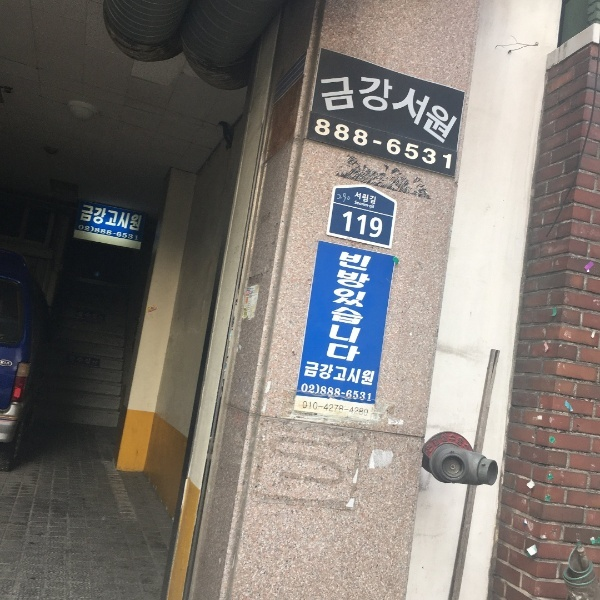text: (353, 249, 368, 364), (339, 249, 352, 364), (417, 83, 432, 146), (433, 83, 448, 146), (321, 117, 336, 171), (337, 117, 352, 171), (353, 117, 368, 171), (369, 117, 384, 171), (385, 117, 400, 171), (401, 117, 416, 171), (417, 117, 432, 171), (433, 117, 448, 171), (449, 83, 459, 146), (369, 249, 374, 364), (321, 76, 336, 113), (337, 76, 352, 113), (353, 76, 368, 113), (369, 76, 384, 113), (353, 208, 368, 241), (369, 208, 383, 241), (97, 203, 112, 233), (113, 203, 128, 233), (129, 203, 143, 233), (83, 203, 96, 233), (321, 361, 336, 387), (337, 361, 352, 387), (353, 361, 368, 387), (307, 361, 320, 387), (385, 76, 394, 113), (342, 208, 352, 241), (411, 83, 416, 146), (305, 383, 320, 403), (321, 383, 336, 403), (337, 383, 352, 403), (353, 383, 368, 403), (81, 224, 96, 242), (97, 224, 112, 242), (113, 224, 128, 242), (353, 401, 369, 417), (305, 401, 320, 417), (321, 401, 336, 417), (337, 401, 352, 417), (354, 191, 368, 206), (369, 361, 376, 387), (129, 224, 139, 242), (337, 192, 351, 204), (317, 117, 320, 171), (449, 117, 452, 171), (354, 200, 368, 211), (369, 191, 377, 206), (369, 383, 372, 403), (369, 200, 374, 211), (302, 383, 304, 403), (78, 224, 80, 242), (303, 401, 304, 417)
